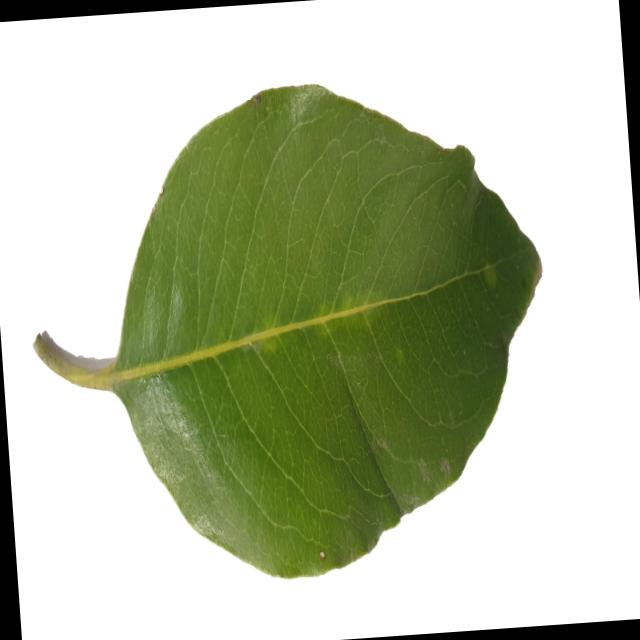Medicinal-Sandalwood: (13, 61, 564, 606)
